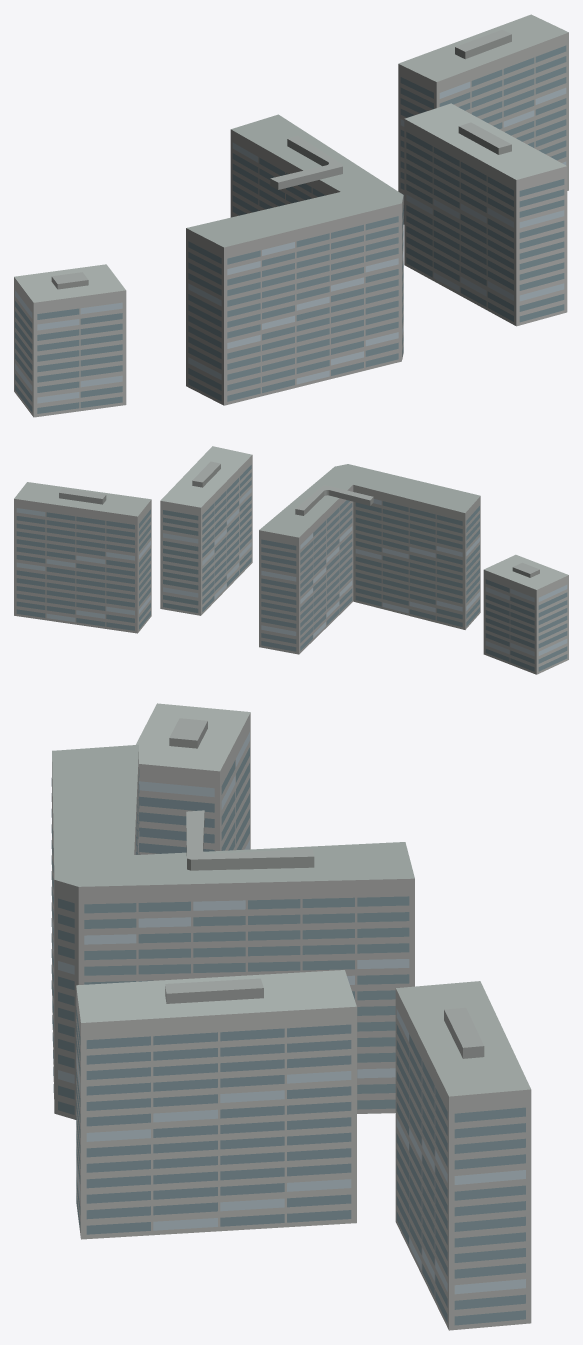
File: apt-a10024770.glb
The picture shows the model from 3 angles, top to bottom: view 1: azimuth 30°, elevation 25°; view 2: azimuth 150°, elevation 25°; view 3: azimuth 270°, elevation 25°; orthographic projection. The views are drawn at different scales.
Visible parts, largest first — view 1: apt-a10024770; view 2: apt-a10024770; view 3: apt-a10024770.
Part boxes in pixels (x1=…): apt-a10024770: x1=14, y1=14, x2=568, y2=417; apt-a10024770: x1=14, y1=446, x2=568, y2=674; apt-a10024770: x1=51, y1=703, x2=531, y2=1330.
Size of the model in its own units: 160 by 40 by 70.97.
